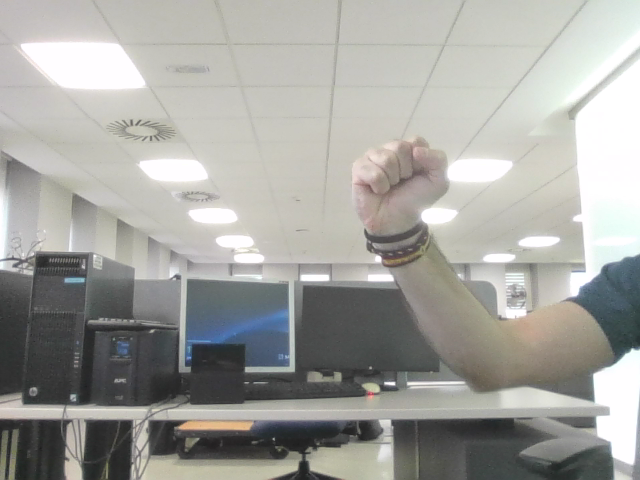Puño: (362, 144, 434, 199)
